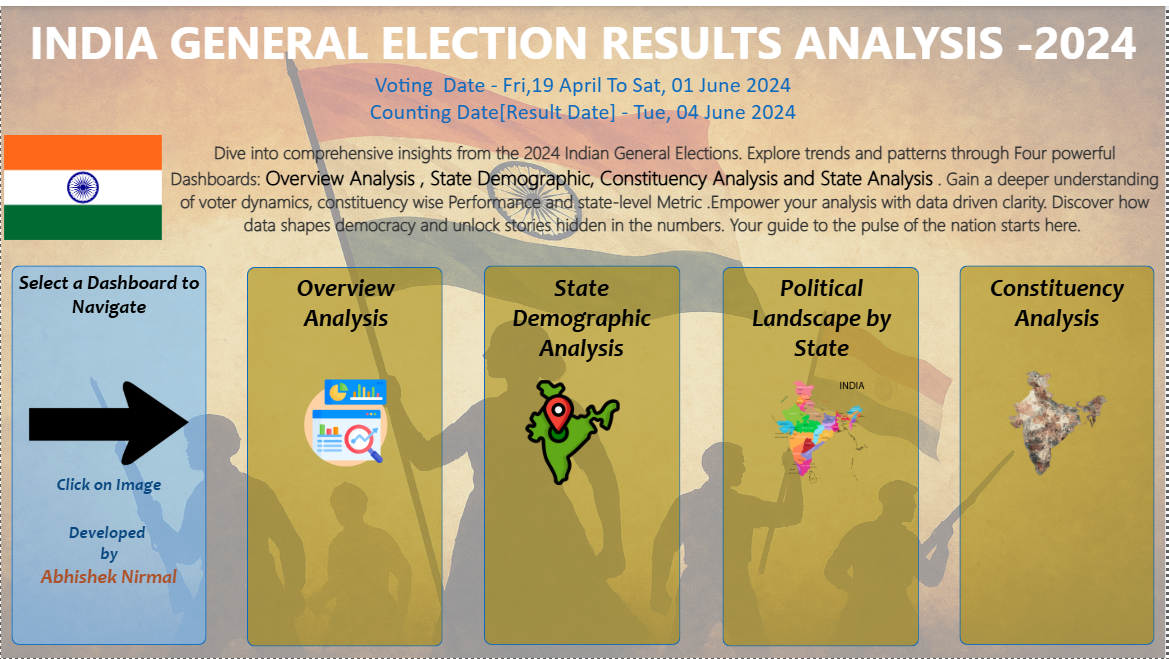

The dashboard page shown, as its layout file describes it:
{"tool":"powerbi","page":{"name":"Landing Page","canvas":[1250,700],"ordinal":5},"visuals":[{"type":"image","box":[0,0,1249.7,700.6],"z":0},{"type":"textbox","box":[0,0,1249.7,194.9],"z":1000},{"type":"textbox","box":[175.5,138.5,1074.2,112.7],"z":2000},{"type":"image","box":[0,138.5,175.5,112.7],"z":3000},{"type":"shape","box":[11.3,278.6,209.4,407.4],"z":4000},{"type":"shape","box":[264.8,280.2,210,407.4],"z":5000},{"type":"shape","box":[518.9,278.6,211,407.4],"z":6000},{"type":"shape","box":[774,280.2,211,407.4],"z":7000},{"type":"shape","box":[1029.1,278.6,209.4,407.4],"z":8000},{"type":"textbox","box":[11.3,278.6,209.4,70.9],"z":9000},{"type":"textbox","box":[265.7,280.2,209.4,82.1],"z":10000},{"type":"textbox","box":[518.6,280.2,209.4,109.5],"z":11000},{"type":"textbox","box":[776.2,280.2,209.4,109.5],"z":12000},{"type":"textbox","box":[1029.1,280.2,209.4,109.5],"z":13000},{"type":"image","box":[1072.6,389.7,120.8,119.2],"z":14000},{"type":"image","box":[557.2,401,112.7,114.3],"z":15000},{"type":"image","box":[318.9,401,103.1,93.4],"z":16000},{"type":"image","box":[826.2,401,104.7,114.3],"z":17000},{"type":"image","box":[11.3,347.9,209.4,199.7],"z":18000},{"type":"textbox","box":[54.8,496,133.7,37],"z":19000},{"type":"textbox","box":[11.3,547.6,209.4,138.5],"z":20000}]}

Visuals, with their boxes in screenshot pixels (x1, y1, x2, y2), scaled from the page's 1250x700 canvas onto the 1169x659 screenshot:
image: {"left": 0, "top": 0, "right": 1168, "bottom": 658}
textbox: {"left": 0, "top": 0, "right": 1168, "bottom": 183}
textbox: {"left": 164, "top": 130, "right": 1168, "bottom": 236}
image: {"left": 0, "top": 130, "right": 164, "bottom": 236}
shape: {"left": 11, "top": 262, "right": 206, "bottom": 646}
shape: {"left": 248, "top": 264, "right": 444, "bottom": 647}
shape: {"left": 485, "top": 262, "right": 683, "bottom": 646}
shape: {"left": 724, "top": 264, "right": 921, "bottom": 647}
shape: {"left": 962, "top": 262, "right": 1158, "bottom": 646}
textbox: {"left": 11, "top": 262, "right": 206, "bottom": 329}
textbox: {"left": 248, "top": 264, "right": 444, "bottom": 341}
textbox: {"left": 485, "top": 264, "right": 681, "bottom": 367}
textbox: {"left": 726, "top": 264, "right": 922, "bottom": 367}
textbox: {"left": 962, "top": 264, "right": 1158, "bottom": 367}
image: {"left": 1003, "top": 367, "right": 1116, "bottom": 479}
image: {"left": 521, "top": 378, "right": 626, "bottom": 485}
image: {"left": 298, "top": 378, "right": 395, "bottom": 465}
image: {"left": 773, "top": 378, "right": 871, "bottom": 485}
image: {"left": 11, "top": 328, "right": 206, "bottom": 516}
textbox: {"left": 51, "top": 467, "right": 176, "bottom": 502}
textbox: {"left": 11, "top": 516, "right": 206, "bottom": 646}
